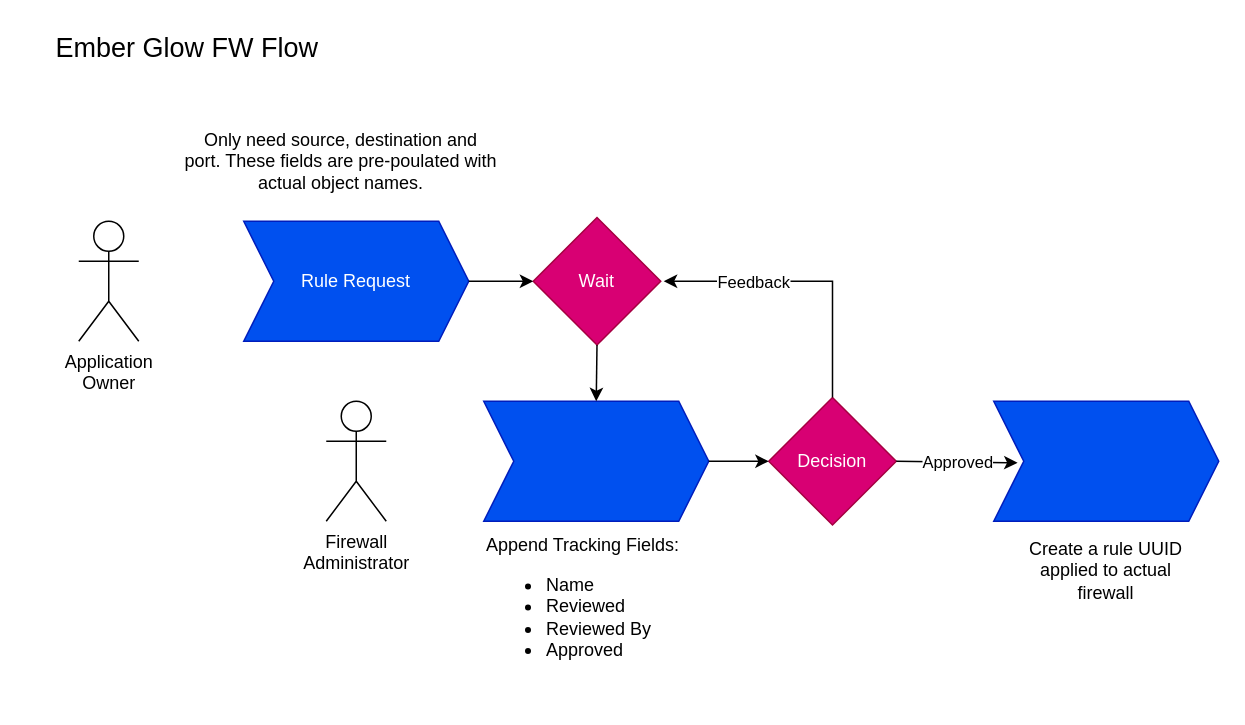
Some shapes in this 1245 by 725 pixel diagram are drawn without their labels. Each missing label, with the box of its shape:
Firewall Rule Modification: (992, 400, 1219, 521)
Rule Review: (482, 400, 709, 521)
